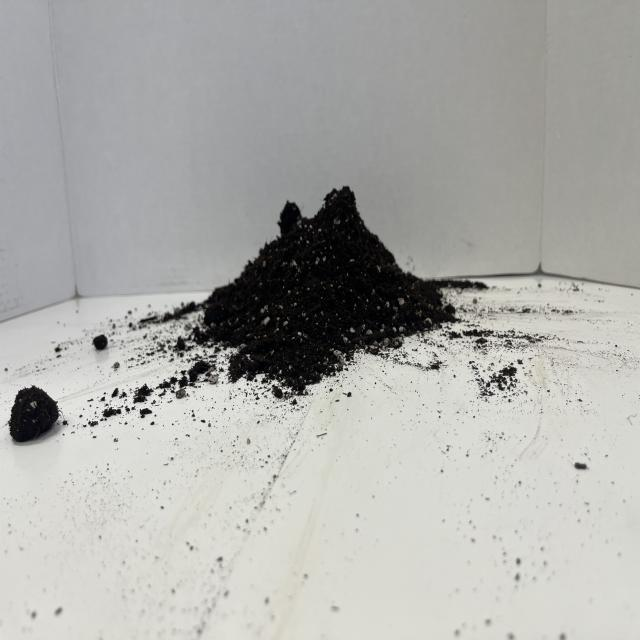soil: (196, 182, 459, 397)
